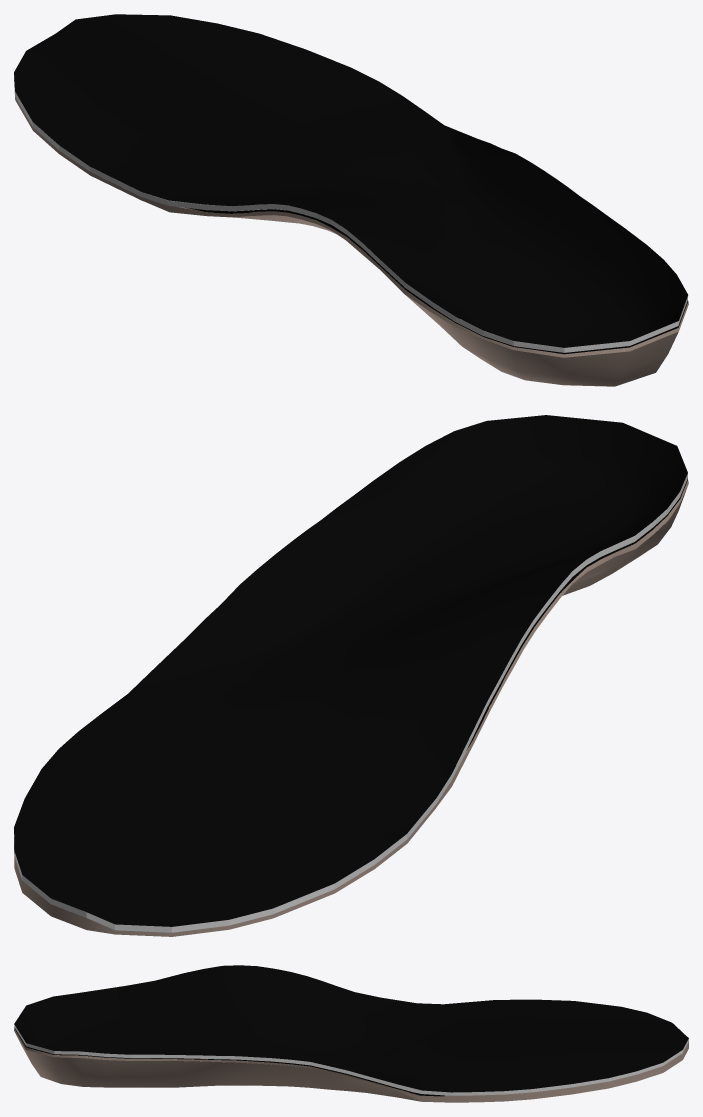
Rendered from FSO_OrthoticProducts2.gltf.
The picture shows the model from 3 angles, top to bottom: view 1: azimuth 30°, elevation 25°; view 2: azimuth 150°, elevation 25°; view 3: azimuth 270°, elevation 25°; orthographic projection. The views are drawn at different scales.
Parts seen in each view (by area): view 1: FSO_OrthoticProducts_model_final:TopSheet, FSO_OrthoticProducts_model_final:polySurface1, FSO_OrthoticProducts_model_final:WhiteFoamLayer, FSO_OrthoticProducts_model_final:BlackFoamLayer; view 2: FSO_OrthoticProducts_model_final:TopSheet, FSO_OrthoticProducts_model_final:polySurface1, FSO_OrthoticProducts_model_final:WhiteFoamLayer; view 3: FSO_OrthoticProducts_model_final:TopSheet, FSO_OrthoticProducts_model_final:polySurface1, FSO_OrthoticProducts_model_final:WhiteFoamLayer, FSO_OrthoticProducts_model_final:BlackFoamLayer.
Boxes of the visible parts, box(x1,y1,x2,y2) form: FSO_OrthoticProducts_model_final:TopSheet: box(14, 14, 687, 347); FSO_OrthoticProducts_model_final:polySurface1: box(14, 80, 688, 386); FSO_OrthoticProducts_model_final:WhiteFoamLayer: box(14, 75, 688, 352); FSO_OrthoticProducts_model_final:BlackFoamLayer: box(185, 207, 688, 354); FSO_OrthoticProducts_model_final:TopSheet: box(14, 415, 687, 926); FSO_OrthoticProducts_model_final:polySurface1: box(14, 480, 688, 936); FSO_OrthoticProducts_model_final:WhiteFoamLayer: box(14, 473, 687, 932); FSO_OrthoticProducts_model_final:TopSheet: box(14, 965, 688, 1092); FSO_OrthoticProducts_model_final:polySurface1: box(14, 1028, 688, 1102); FSO_OrthoticProducts_model_final:WhiteFoamLayer: box(14, 1024, 688, 1095); FSO_OrthoticProducts_model_final:BlackFoamLayer: box(14, 1027, 444, 1096).
Bounding box in the file's own units: 1.01 × 0.2737 × 2.94.
